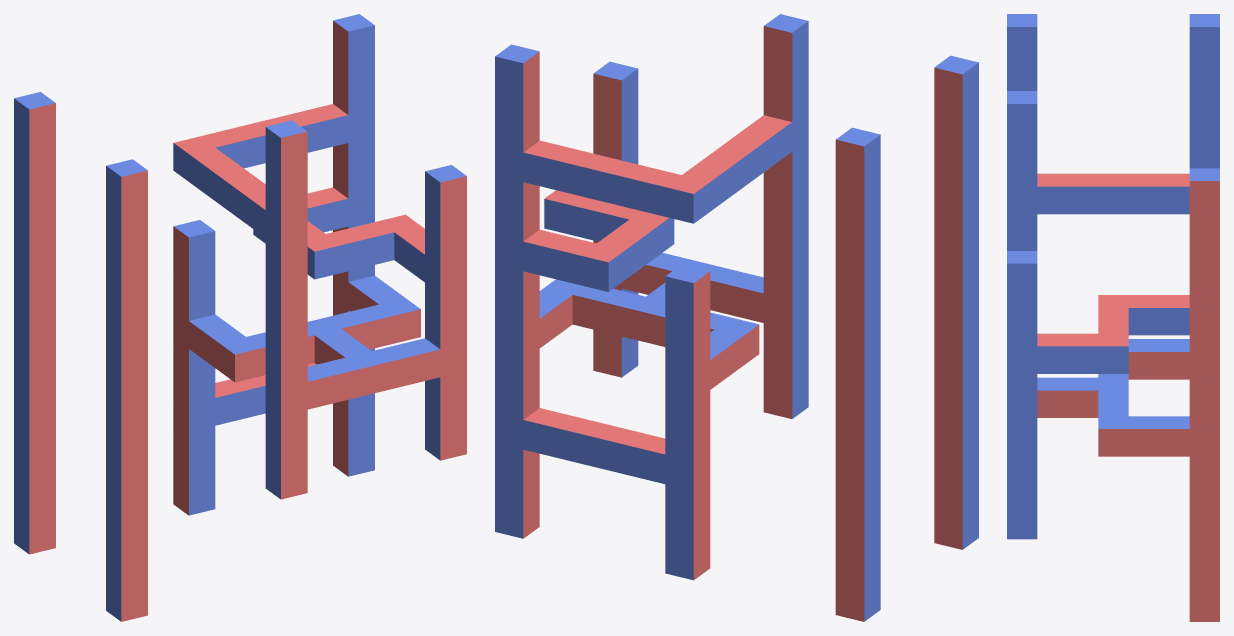
The model's file is bv_6_blockgraph.dae.
3 renders of one model, left to right at view 1: azimuth 30°, elevation 25°; view 2: azimuth 150°, elevation 25°; view 3: azimuth 270°, elevation 25°, orthographic. The views are drawn at different scales.
Parts seen in each view (by area): view 1: ZXO (×34), ZXZ (×19), XZO (×12), OZX (×9), OXZ (×6), ZOX (×4), XOZ (×4), XZZ (×4), XXZ (×3), XZX (×3), ZXX (×2), ZZX; view 2: ZXO (×30), XZO (×16), ZXZ (×18), OZX (×12), OXZ (×5), ZOX (×6), XZZ (×6), XZX (×6), ZZX (×3), XOZ (×2), XXZ; view 3: ZXO (×8), ZOX (×8), XZO (×5), ZXZ (×11), XOZ (×6), ZXX (×4), XZZ (×4), XZX (×3), XXZ (×3), ZZX (×3), OXZ, OZX.
Boxes of the visible parts, x1,y1,x2,y2 form: ZXO (×34): [14, 126, 466, 593]; ZXZ (×19): [29, 103, 466, 621]; XZO (×12): [173, 48, 374, 487]; OZX (×9): [200, 104, 394, 425]; OXZ (×6): [307, 304, 440, 409]; ZOX (×4): [189, 147, 424, 282]; XOZ (×4): [189, 275, 404, 370]; XZZ (×4): [189, 25, 374, 515]; XXZ (×3): [235, 309, 420, 396]; XZX (×3): [189, 108, 374, 431]; ZXX (×2): [281, 215, 466, 293]; ZZX: [314, 245, 341, 279]; ZXO (×30): [593, 51, 978, 591]; XZO (×16): [495, 81, 710, 550]; ZXZ (×18): [593, 26, 962, 621]; OZX (×12): [523, 140, 681, 483]; OXZ (×5): [572, 265, 763, 338]; ZOX (×6): [597, 115, 792, 279]; XZZ (×6): [495, 56, 693, 580]; XZX (×6): [495, 145, 693, 490]; ZZX (×3): [544, 187, 693, 291]; XOZ (×2): [539, 295, 742, 389]; XXZ: [629, 308, 657, 345]; ZXO (×8): [1007, 54, 1219, 511]; ZOX (×8): [1037, 173, 1189, 373]; XZO (×5): [1189, 208, 1219, 594]; ZXZ (×11): [1007, 14, 1219, 539]; XOZ (×6): [1037, 339, 1189, 456]; ZXX (×4): [1007, 173, 1128, 373]; XZZ (×4): [1189, 168, 1219, 621]; XZX (×3): [1189, 263, 1219, 539]; XXZ (×3): [1098, 377, 1128, 456]; ZZX (×3): [1098, 295, 1128, 373]; OXZ: [1098, 390, 1128, 416]; OZX: [1098, 308, 1128, 333].
Size of the model in its own units: 13 by 7 by 16.
